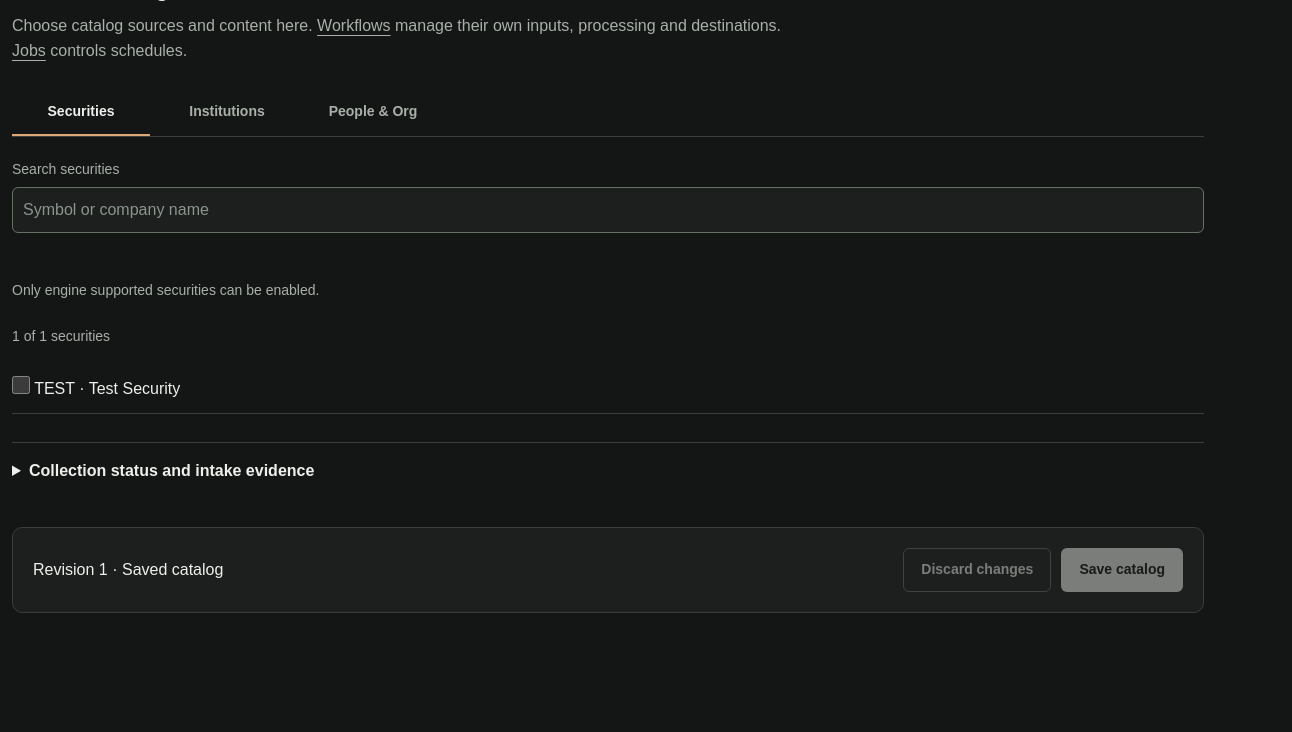
Scenario: SourceCatalogView › searches platform identities, opens source-specific accounts and returns focus to the card
Expected: the text "Revision 1 · Saved catalog" is shown, [33,557,223,583]
Click the tab "People & Org": (373, 112) [304,88,442,136]
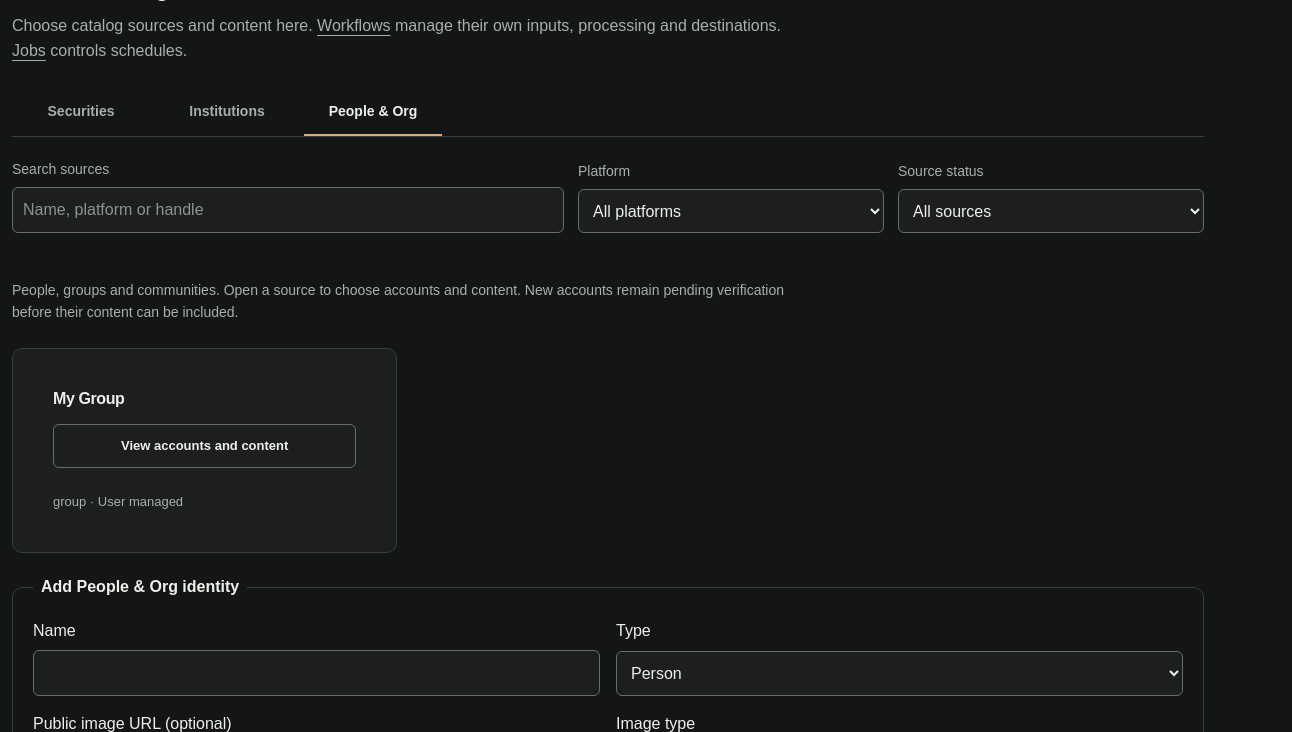
In the search field: (288, 210) [12,187,564,233], type "x test"
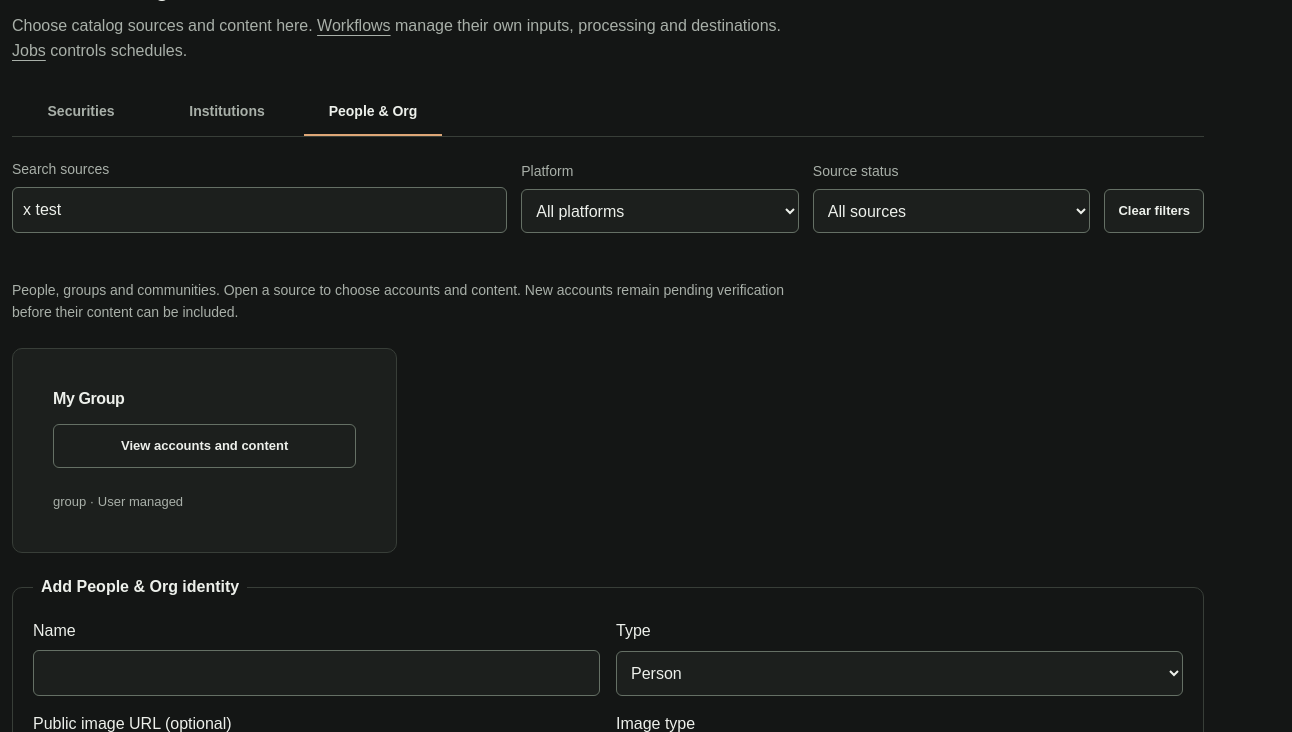
Click the button with aria-label "View accounts and content for My Group": (205, 446) [53,424,356,468]
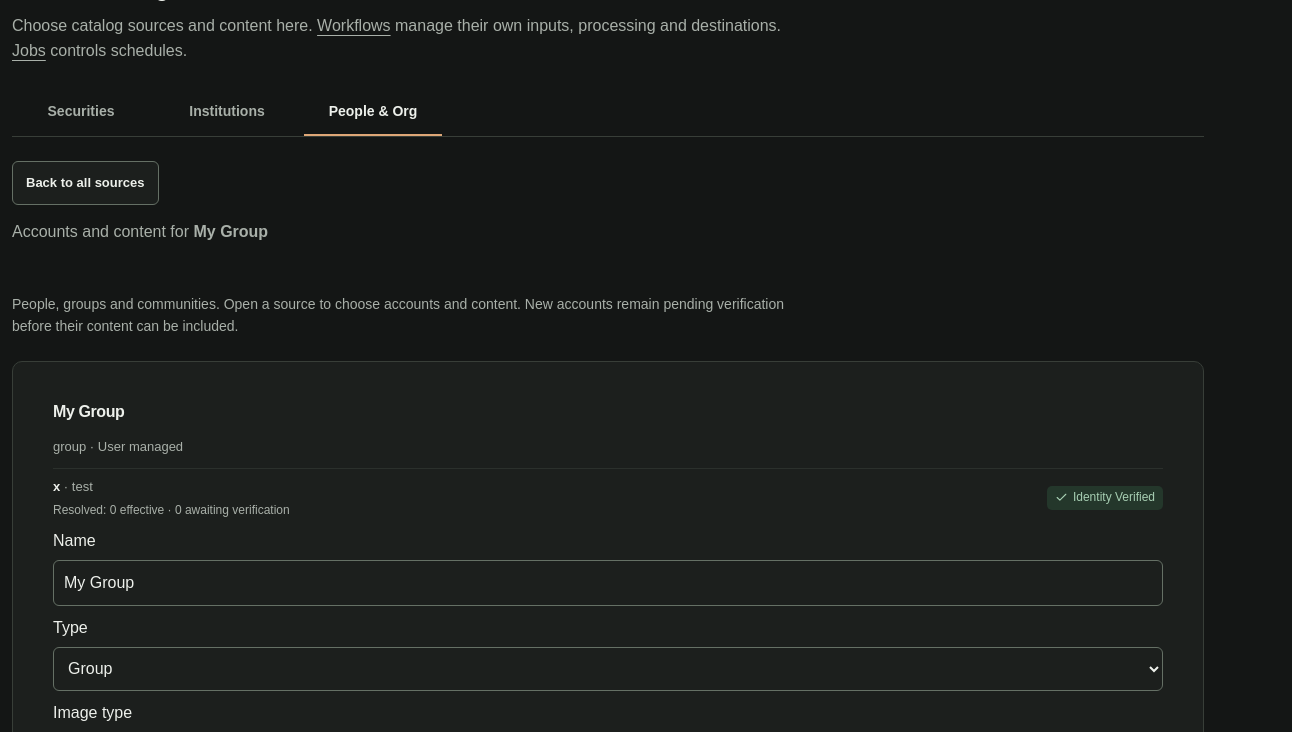
Click the button "Back to all sources": (85, 183) [12,161,158,205]
(page scrolled)
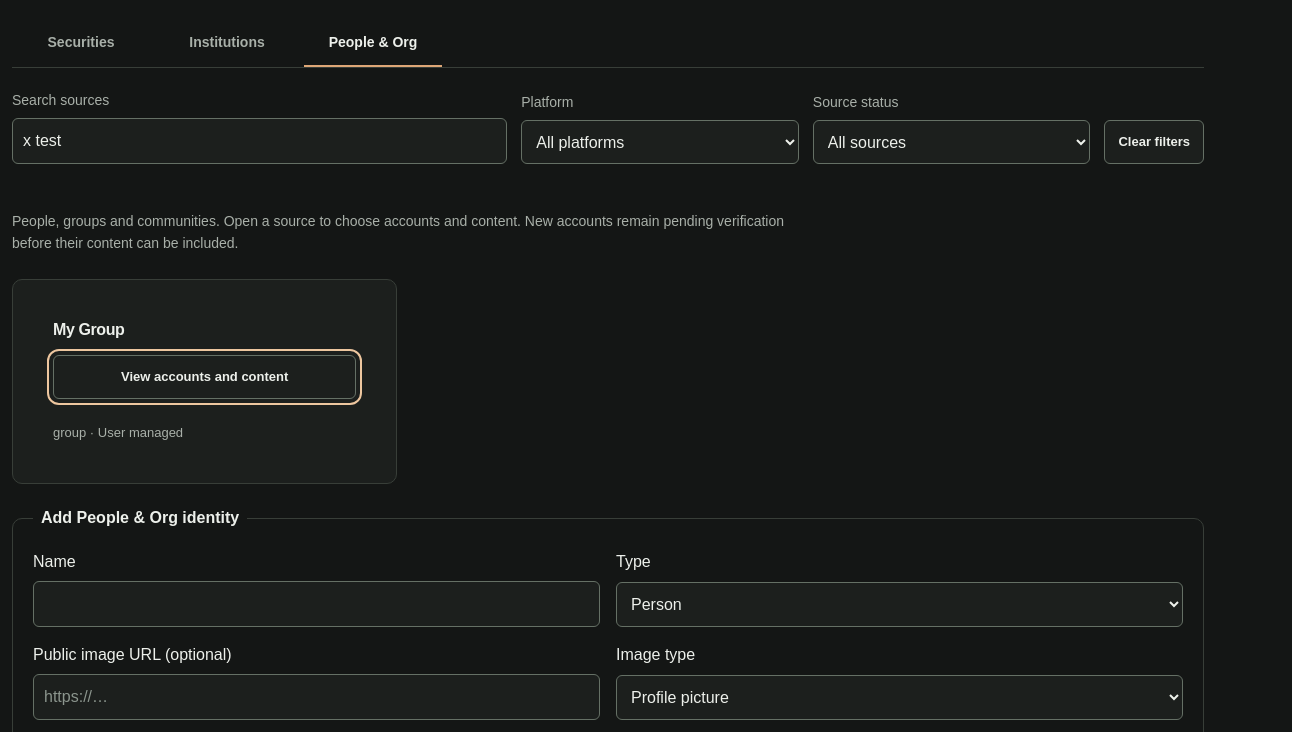
Replace the text in the search field with "missing identity": (260, 141) [12,118,507,164]
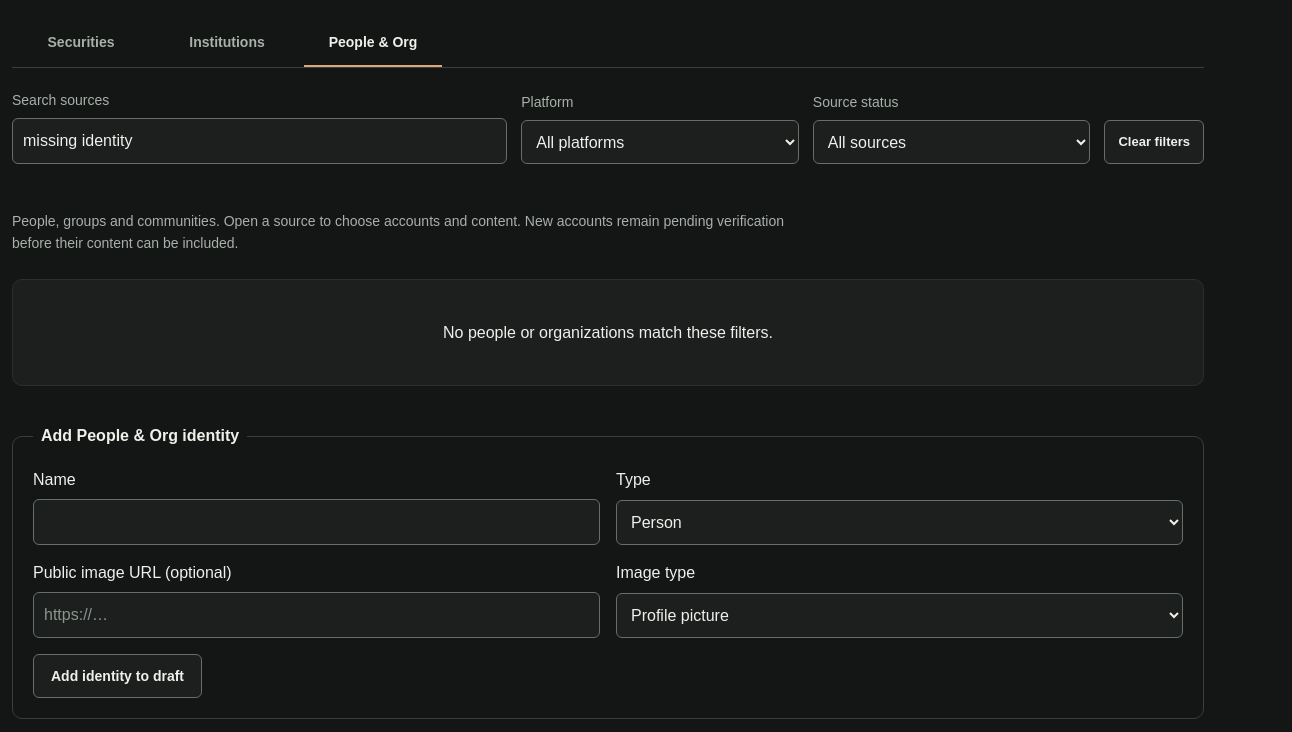
Expected: the text "No people or organizations match these filters." is shown, [12,279,1204,386]
Click the button "Clear filters": (1154, 142) [1104,120,1204,164]
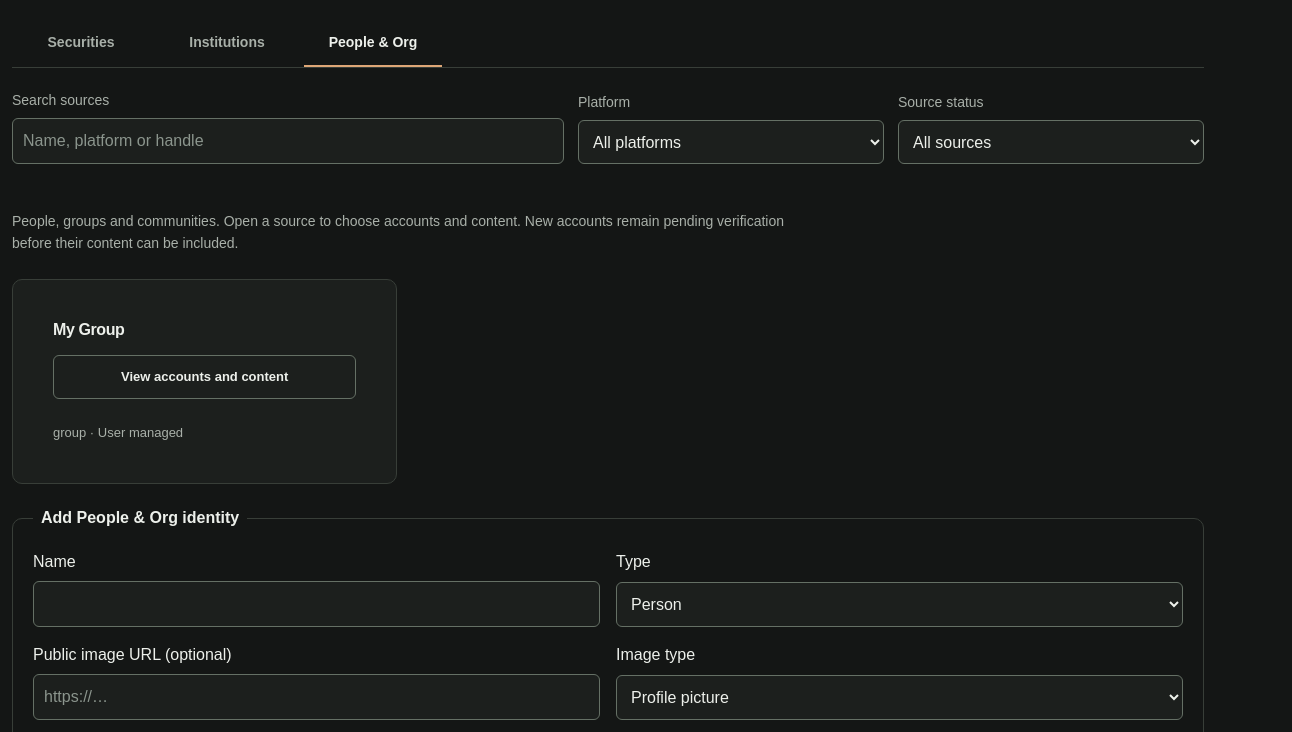
Expected: the button with aria-label "View accounts and content for My Group" is shown, [53,355,356,399]
